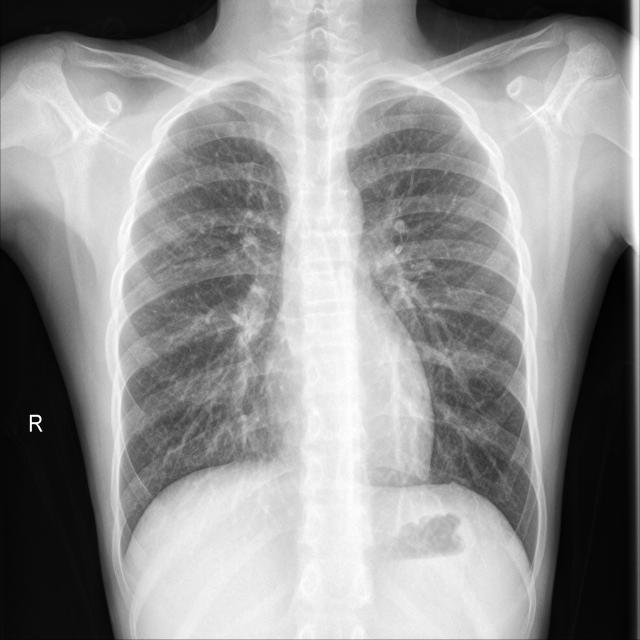no-pneumonia: (348, 83, 540, 560), (115, 82, 290, 548)
